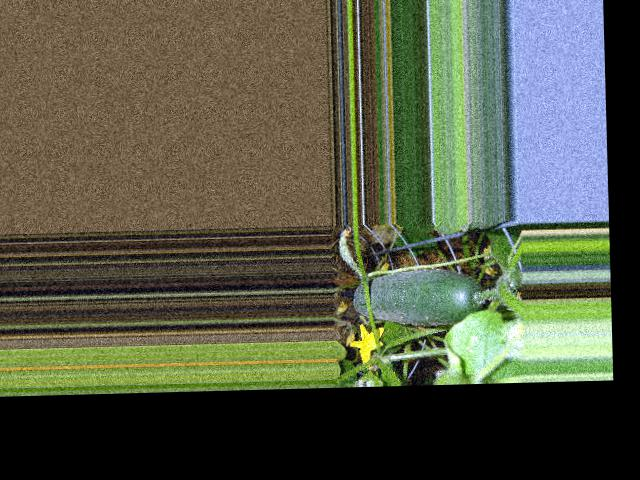cucumber: (353, 266, 484, 327)
